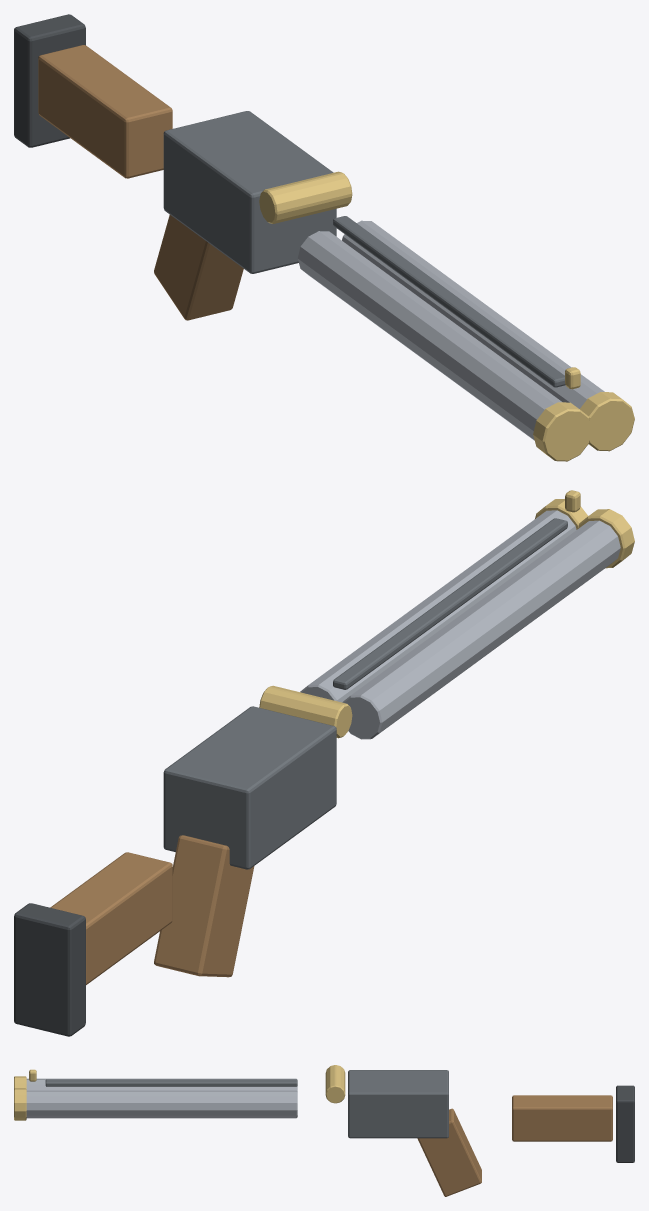
The model's file is doublebarrel.glb.
3 views of the same model, one above another, from view 1: azimuth 30°, elevation 25°; view 2: azimuth 150°, elevation 25°; view 3: azimuth 270°, elevation 25° (orthographic). The views are drawn at different scales.
Parts seen in each view (by area): view 1: Receiver, BarrelL, Stock, Grip, BarrelR, Butt, Rib, Hinge, RingL, RingR; view 2: Receiver, BarrelL, Grip, Butt, Stock, BarrelR, Rib, Hinge, RingL; view 3: BarrelR, Receiver, Stock, Grip, Rib, BarrelL, Butt, Hinge, RingR.
Boxes of the visible parts, x1,y1,x2,y2 form: Receiver: (163,111,336,273); BarrelL: (297,231,562,440); Stock: (38,45,172,178); Grip: (154,215,243,320); BarrelR: (342,220,604,408); Butt: (14,14,85,147); Rib: (333,216,565,387); Hinge: (259,171,352,223); RingL: (533,402,591,461); RingR: (580,392,634,451); Receiver: (163,706,336,869); BarrelL: (342,520,620,739); Grip: (154,835,254,977); Butt: (14,903,85,1036); Stock: (50,852,172,984); BarrelR: (300,510,576,702); Rib: (333,518,567,689); Hinge: (259,685,352,738); RingL: (578,509,634,568); BarrelR: (26,1090,297,1118); Receiver: (348,1070,448,1138); Stock: (512,1095,612,1141); Grip: (417,1108,481,1196); Rib: (45,1079,297,1086); BarrelL: (26,1078,297,1090); Butt: (616,1085,634,1162); Hinge: (325,1065,345,1103); RingR: (14,1088,26,1120).
Size of the model in its own units: 0.096 by 0.2108 by 0.985.
